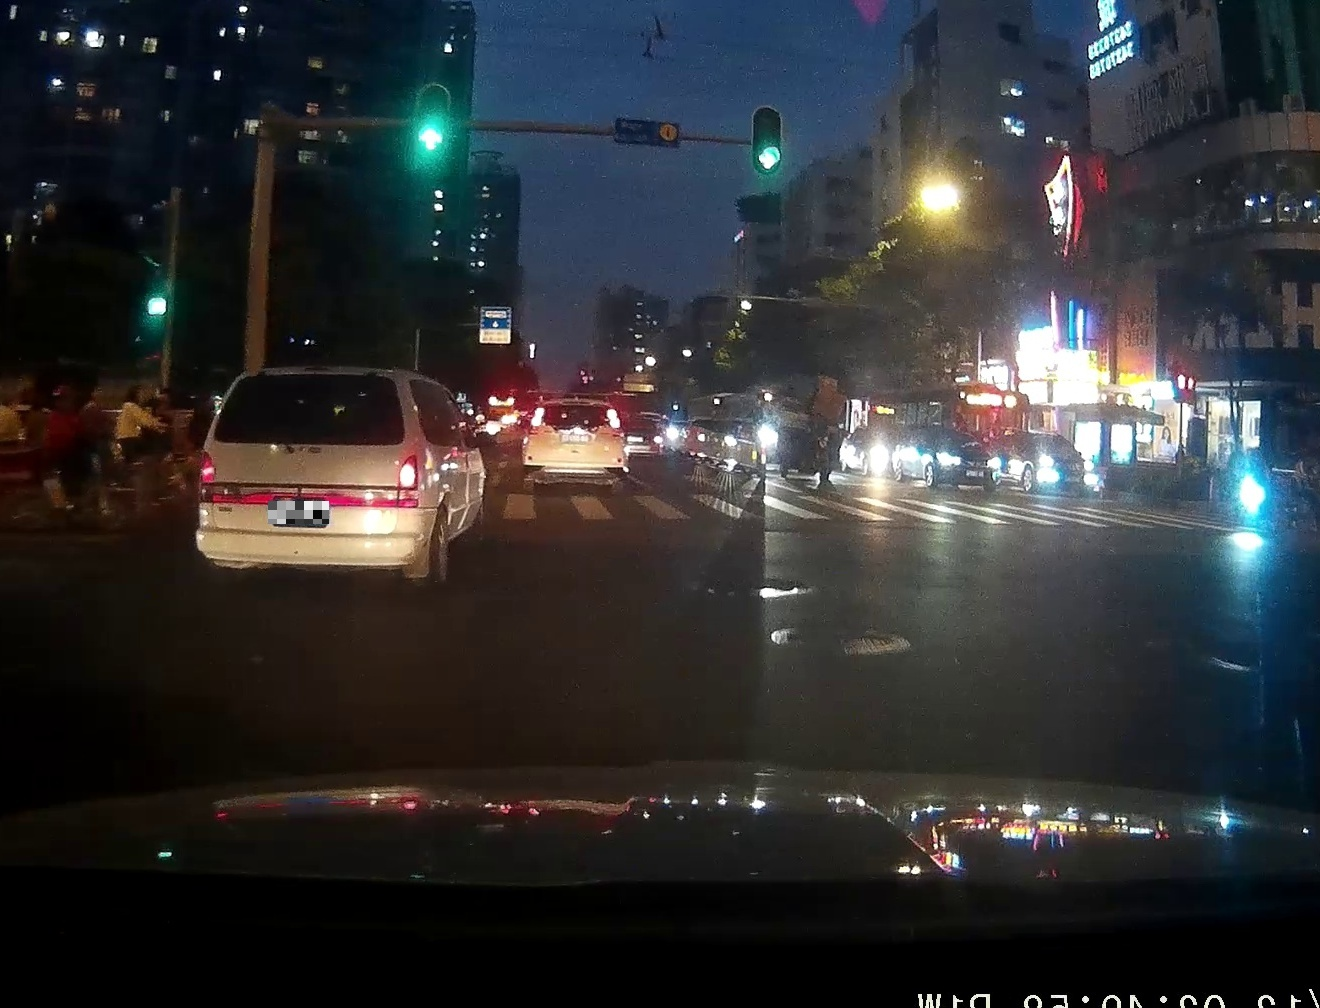L_light: (197, 449, 215, 502), (529, 407, 543, 434)
R_light: (397, 453, 419, 508), (605, 408, 622, 436)
T_light: (302, 373, 330, 382), (569, 404, 585, 410)
night-no: (523, 398, 628, 493)
night-right: (195, 366, 419, 582)
plate_1: (268, 501, 329, 524)
